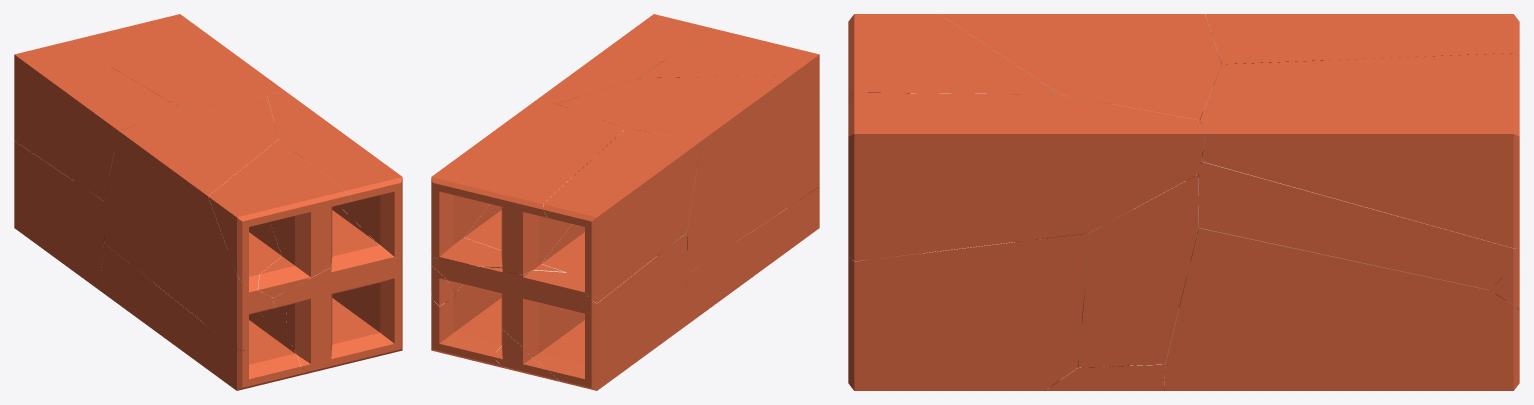
Rendered from vien_gach_fracture.fbx.
3 renders of one model, left to right at view 1: azimuth 30°, elevation 25°; view 2: azimuth 150°, elevation 25°; view 3: azimuth 270°, elevation 25°, orthographic. The views are drawn at different scales.
Visible parts, largest first — view 1: vien_gach_cell.004, vien_gach_cell.002, vien_gach_cell.001, vien_gach_cell.006, vien_gach_cell.003, vien_gach_cell.005, vien_gach_cell.009, vien_gach_cell; view 2: vien_gach_cell.004, vien_gach_cell, vien_gach_cell.003, vien_gach_cell.002, vien_gach_cell.005, vien_gach_cell.006, vien_gach_cell.009, vien_gach_cell.008, vien_gach_cell.007, vien_gach_cell.010; view 3: vien_gach_cell.009, vien_gach_cell.003, vien_gach_cell.008, vien_gach_cell.004, vien_gach_cell.001, vien_gach_cell, vien_gach_cell.002, vien_gach_cell.006, vien_gach_cell.005, vien_gach_cell.010.
Part boxes in pixels (x1,y1,x2,y2): vien_gach_cell.004: [104, 96, 286, 350]; vien_gach_cell.002: [14, 41, 181, 200]; vien_gach_cell.001: [273, 205, 402, 372]; vien_gach_cell.006: [208, 139, 352, 297]; vien_gach_cell.003: [68, 14, 283, 109]; vien_gach_cell.005: [99, 243, 311, 390]; vien_gach_cell.009: [267, 90, 402, 262]; vien_gach_cell: [14, 141, 104, 289]; vien_gach_cell.004: [556, 75, 819, 274]; vien_gach_cell: [431, 204, 686, 390]; vien_gach_cell.003: [431, 101, 625, 274]; vien_gach_cell.002: [543, 128, 701, 303]; vien_gach_cell.005: [682, 187, 819, 328]; vien_gach_cell.006: [639, 28, 819, 111]; vien_gach_cell.009: [535, 14, 710, 103]; vien_gach_cell.008: [431, 285, 510, 369]; vien_gach_cell.007: [492, 330, 559, 381]; vien_gach_cell.010: [431, 266, 456, 305]; vien_gach_cell.009: [848, 92, 1205, 261]; vien_gach_cell.003: [1200, 53, 1519, 248]; vien_gach_cell.008: [1164, 228, 1519, 390]; vien_gach_cell.004: [940, 14, 1221, 367]; vien_gach_cell.001: [848, 233, 1089, 390]; vien_gach_cell: [1198, 161, 1519, 290]; vien_gach_cell.002: [1205, 14, 1519, 64]; vien_gach_cell.006: [848, 14, 1059, 98]; vien_gach_cell.005: [1045, 364, 1165, 390]; vien_gach_cell.010: [1490, 261, 1519, 309].
Size of the model in its own units: 244 by 244 by 578.
